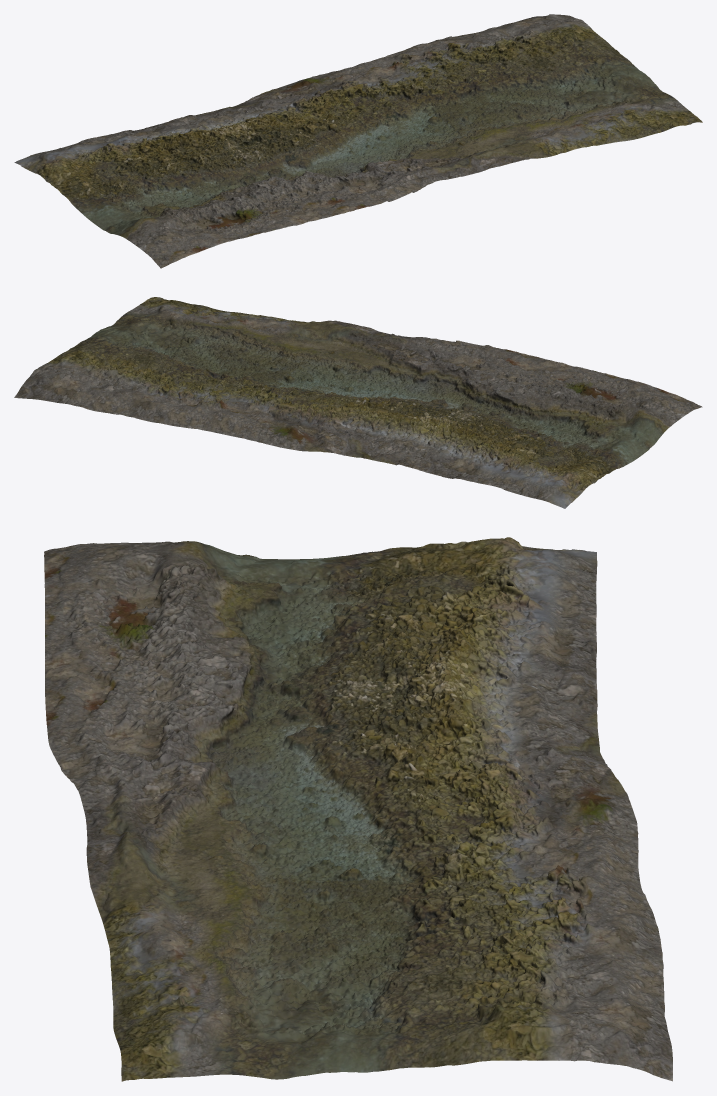
The model's file is coast_line_02.glb.
The picture shows the model from 3 angles, top to bottom: view 1: azimuth 30°, elevation 25°; view 2: azimuth 150°, elevation 25°; view 3: azimuth 270°, elevation 25°; orthographic projection. The views are drawn at different scales.
Parts seen in each view (by area): view 1: coast_line_02; view 2: coast_line_02; view 3: coast_line_02.
Boxes of the visible parts, bbox=[...] form: coast_line_02: bbox=[14, 14, 702, 268]; coast_line_02: bbox=[14, 297, 702, 508]; coast_line_02: bbox=[44, 537, 672, 1081].
Bounding box in the file's own units: 45.64 × 2.29 × 23.28.
Materials: 1 (1 with a texture image).
